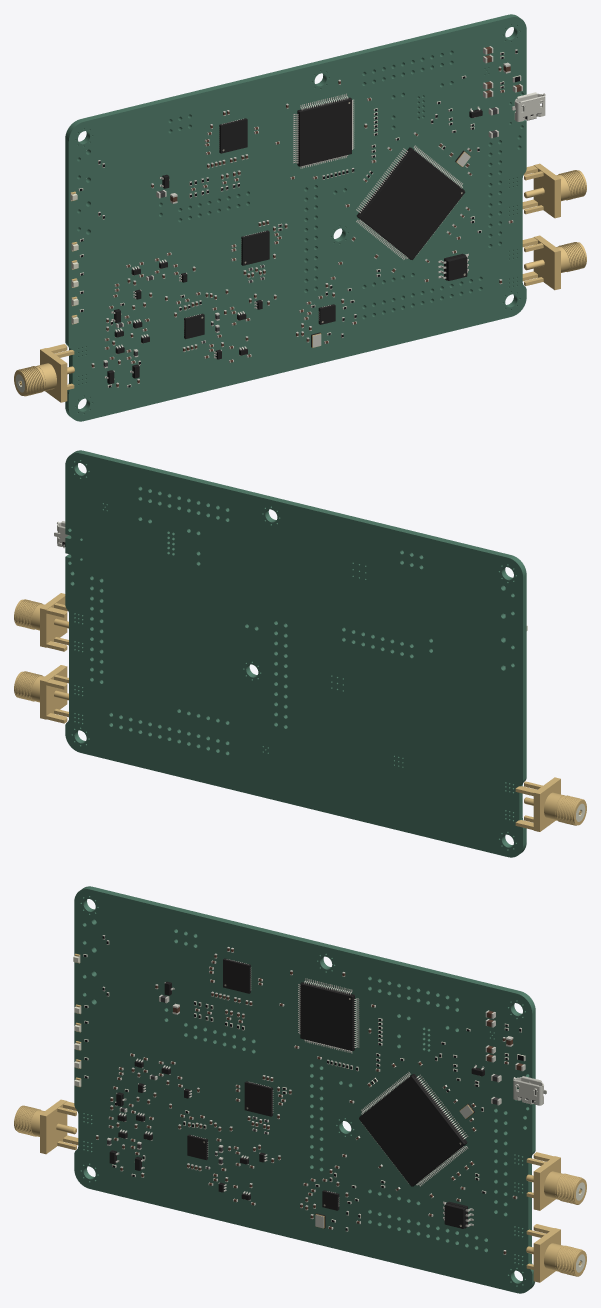
Rendered from hackrf-one.glb.
3 views of the same model, one above another, from view 1: azimuth 30°, elevation 25°; view 2: azimuth 150°, elevation 25°; view 3: azimuth 330°, elevation 25° (orthographic).
Parts seen in each view (by area): view 1: =>[0:1:1:40], =>[0:1:1:35], =>[0:1:1:17] (×3), =>[0:1:1:37], =>[0:1:1:29] (×2), =>[0:1:1:11], =>[0:1:1:33]; view 2: =>[0:1:1:40], =>[0:1:1:17] (×3); view 3: =>[0:1:1:40], =>[0:1:1:35], =>[0:1:1:17] (×3), =>[0:1:1:37], =>[0:1:1:29] (×2), =>[0:1:1:11], =>[0:1:1:33].
Boxes of the visible parts, box(x1,y1,x2,y2) form: =>[0:1:1:40]: box(65, 14, 526, 421); =>[0:1:1:35]: box(356, 145, 465, 259); =>[0:1:1:17] (×3): box(14, 163, 586, 402); =>[0:1:1:37]: box(293, 93, 354, 168); =>[0:1:1:29] (×2): box(219, 118, 269, 265); =>[0:1:1:11]: box(512, 92, 545, 121); =>[0:1:1:33]: box(438, 253, 468, 280); =>[0:1:1:40]: box(65, 450, 526, 857); =>[0:1:1:17] (×3): box(14, 593, 586, 831); =>[0:1:1:40]: box(74, 886, 535, 1293); =>[0:1:1:35]: box(359, 1072, 467, 1186); =>[0:1:1:17] (×3): box(14, 1099, 586, 1282); =>[0:1:1:37]: box(298, 978, 359, 1053); =>[0:1:1:29] (×2): box(223, 958, 273, 1116); =>[0:1:1:11]: box(513, 1076, 546, 1105); =>[0:1:1:33]: box(443, 1201, 473, 1228).
Bounding box in the file's own units: 0.1468 × 0.075 × 0.00952.
